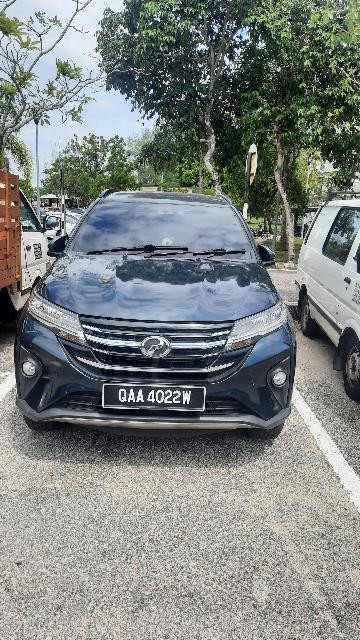License_Plate: (98, 382, 210, 415)
car: (15, 182, 310, 445)
